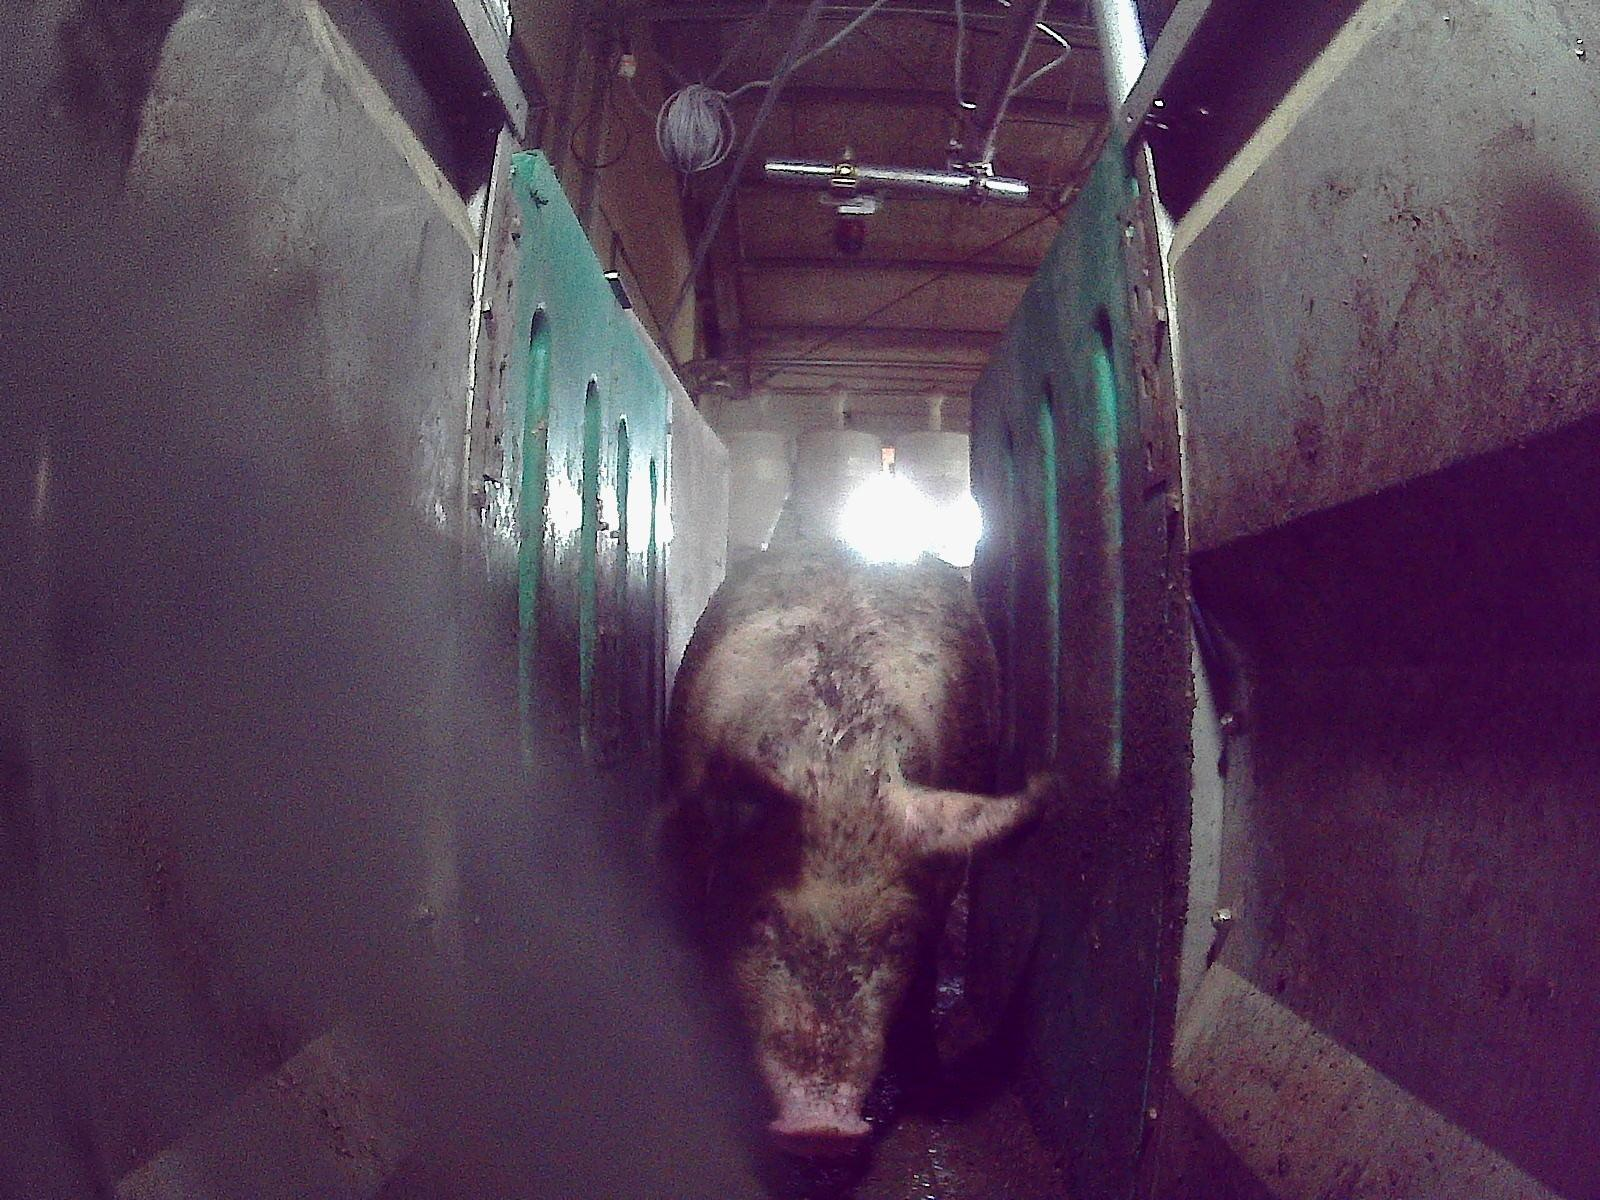Face: (723, 797, 926, 1151)
